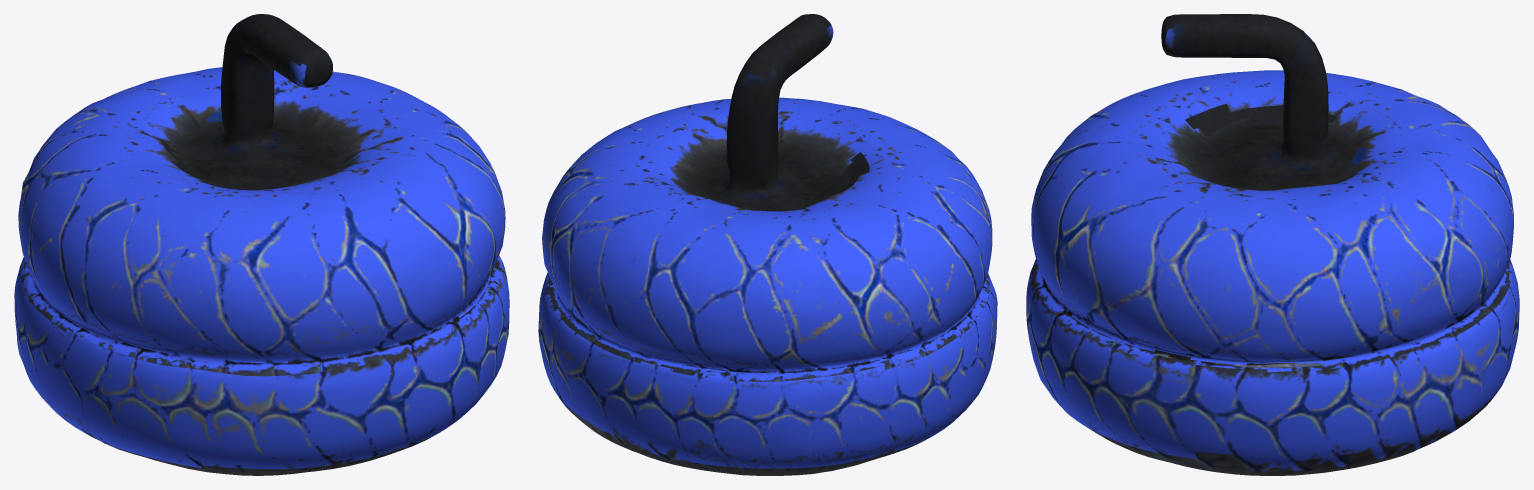
File: blue_stone_hq.fbx
The picture shows the model from 3 angles, left to right: view 1: azimuth 30°, elevation 25°; view 2: azimuth 150°, elevation 25°; view 3: azimuth 270°, elevation 25°; orthographic projection. The views are drawn at different scales.
Parts seen in each view (by area): view 1: mesh; view 2: mesh; view 3: mesh.
Boxes of the visible parts, bbox=[...] form: mesh: bbox=[14, 14, 509, 475]; mesh: bbox=[538, 14, 997, 475]; mesh: bbox=[1026, 14, 1519, 475].
Bounding box in the file's own units: 99.81 × 86.52 × 99.84.
Materials: 1 (1 with a texture image).
